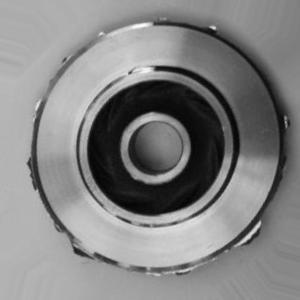casting_with_burr: (23, 14, 292, 277)
scratch: (122, 61, 162, 80)
